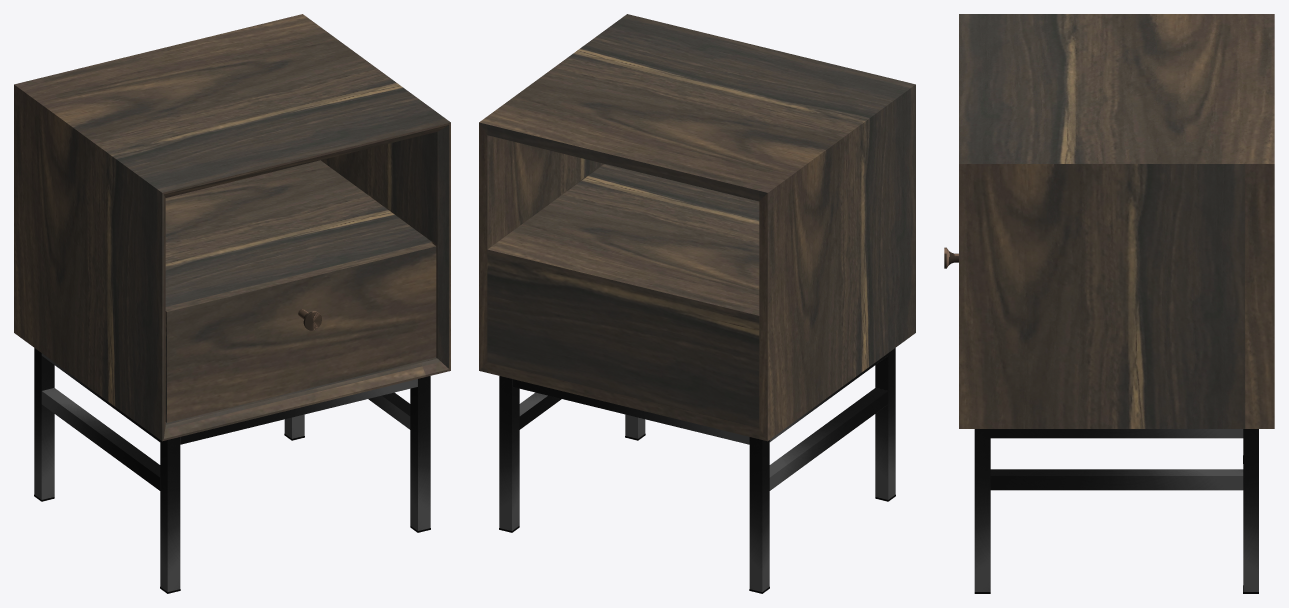
The model's file is 030.3_Mesa-de-noche.glb.
3 renders of one model, left to right at view 1: azimuth 30°, elevation 25°; view 2: azimuth 150°, elevation 25°; view 3: azimuth 270°, elevation 25°, orthographic. The views are drawn at different scales.
Parts seen in each view (by area): view 1: root; view 2: root; view 3: root.
Part boxes in pixels (<box>): root: <box>14,14,450,593</box>; root: <box>479,14,915,593</box>; root: <box>944,14,1274,593</box>.
Bounding box in the file's own units: 0.45 × 0.61 × 0.4188.
7 materials, 5 textured.
